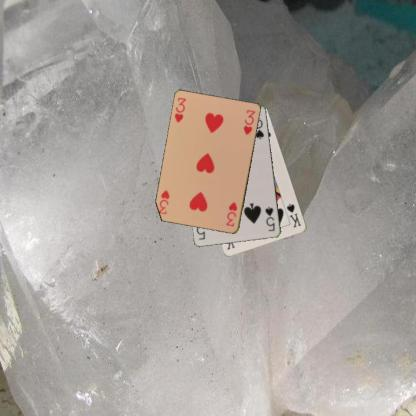3h: (172, 95, 187, 124), (224, 199, 238, 228)
5s: (262, 204, 276, 233)
Ks: (284, 201, 302, 229)
